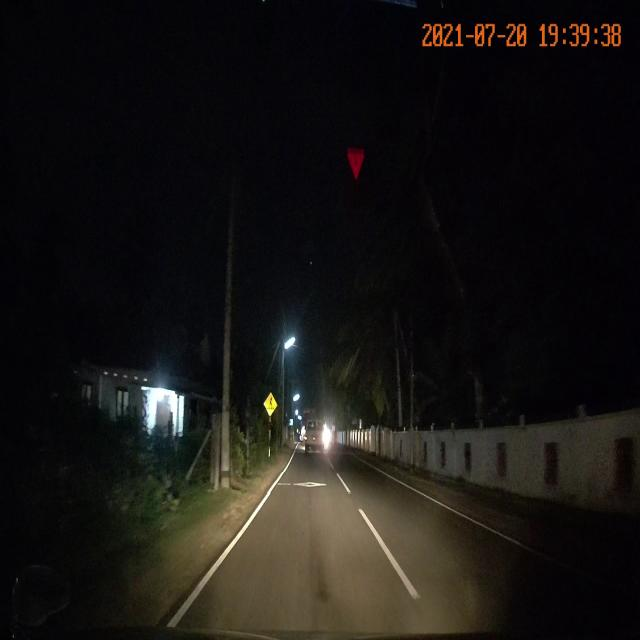diamond: (265, 473, 352, 493)
